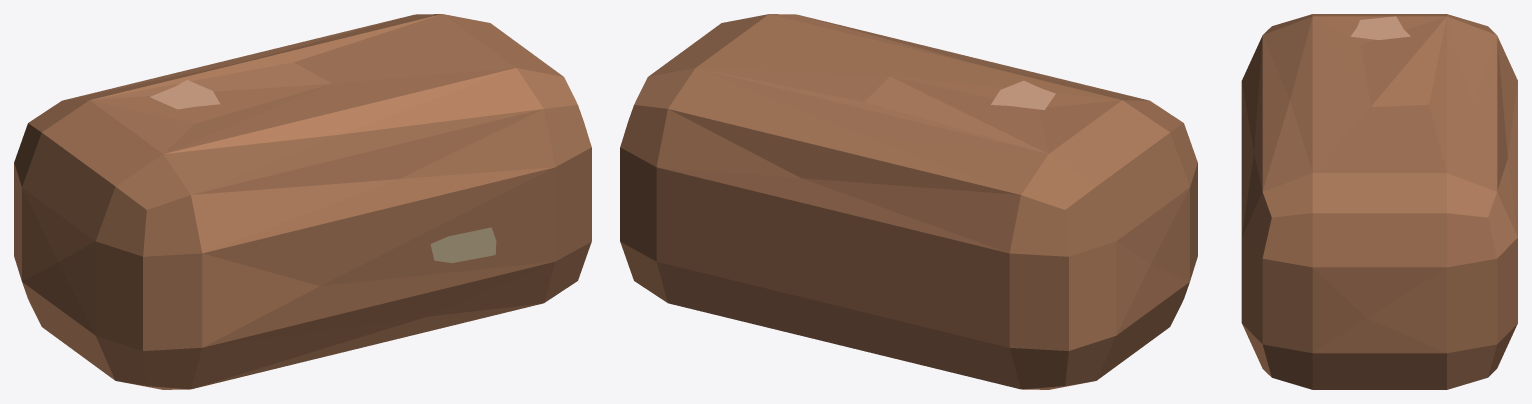
The model's file is meat_cooked_varenoe_idle.glb.
The picture shows the model from 3 angles, left to right: view 1: azimuth 30°, elevation 25°; view 2: azimuth 150°, elevation 25°; view 3: azimuth 270°, elevation 25°; orthographic projection. The views are drawn at different scales.
Parts seen in each view (by area): view 1: meat_cooked_varenoe_idle; view 2: meat_cooked_varenoe_idle; view 3: meat_cooked_varenoe_idle.
Part boxes in pixels (x1,y1,x2,y2): meat_cooked_varenoe_idle: [14, 14, 591, 389]; meat_cooked_varenoe_idle: [620, 14, 1197, 389]; meat_cooked_varenoe_idle: [1241, 14, 1517, 389].
Bounding box in the file's own units: 0.13 × 0.064 × 0.074.
Materials: 1 (1 with a texture image).
